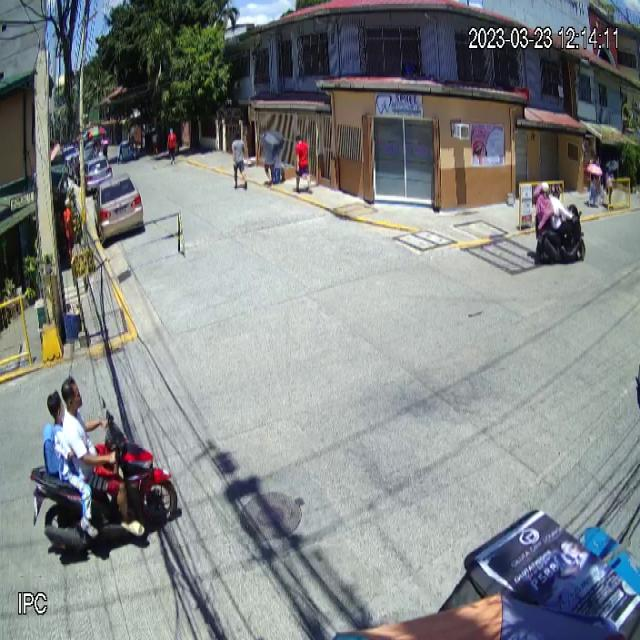Car: (92, 172, 143, 242)
Motorcycle: (28, 394, 178, 556)
